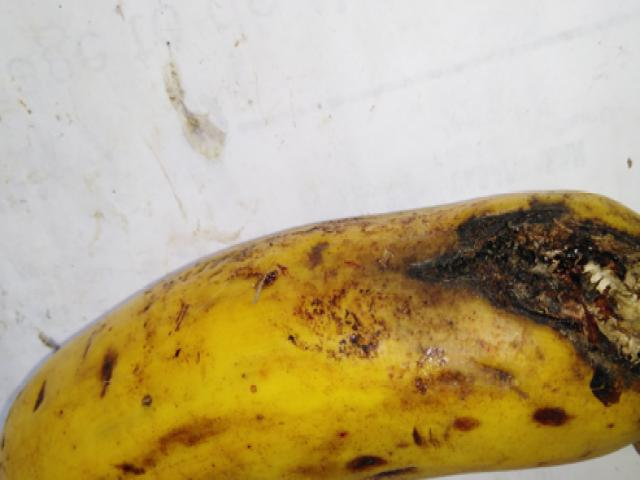ripe: (0, 208, 412, 479)
rotten: (347, 152, 639, 456)
